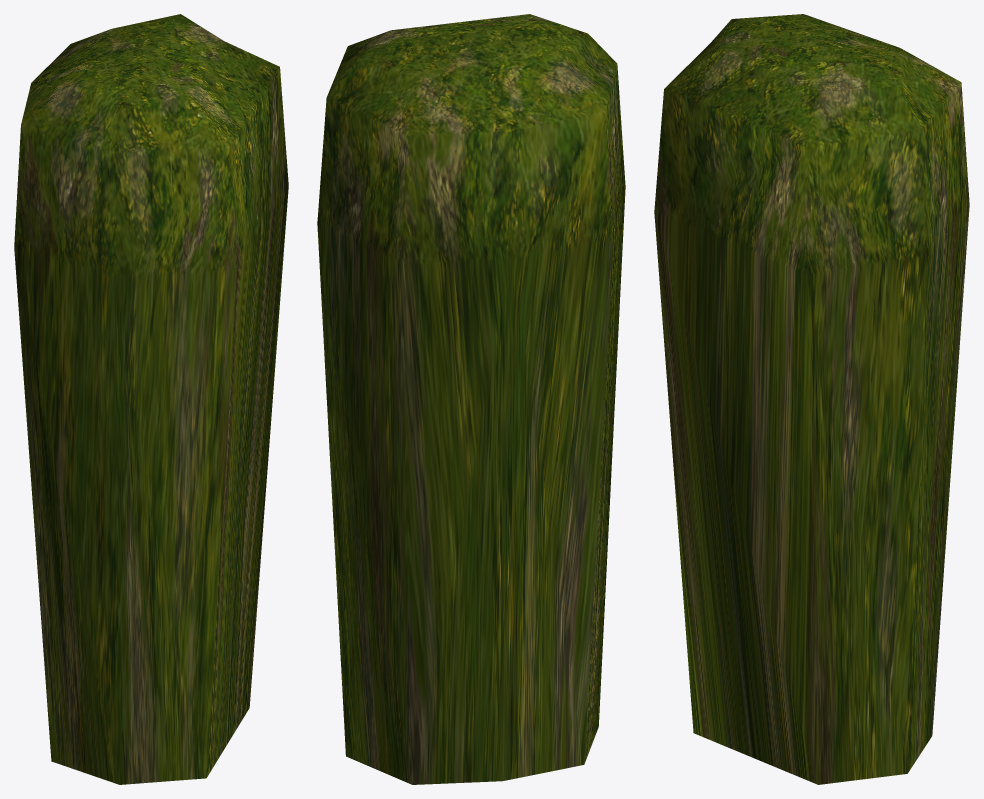
Rendered from OVERHILL_A_01_BOX05.fbx.
3 renders of one model, left to right at view 1: azimuth 30°, elevation 25°; view 2: azimuth 150°, elevation 25°; view 3: azimuth 270°, elevation 25°, orthographic. The views are drawn at different scales.
Parts seen in each view (by area): view 1: OVERHILL_A_01_BOX05; view 2: OVERHILL_A_01_BOX05; view 3: OVERHILL_A_01_BOX05.
Part boxes in pixels (x1,y1,x2,y2): OVERHILL_A_01_BOX05: [14, 14, 288, 784]; OVERHILL_A_01_BOX05: [317, 14, 625, 784]; OVERHILL_A_01_BOX05: [654, 14, 969, 784].
Size of the model in its own units: 19249 by 46776 by 19234.
1 material, 1 textured.
